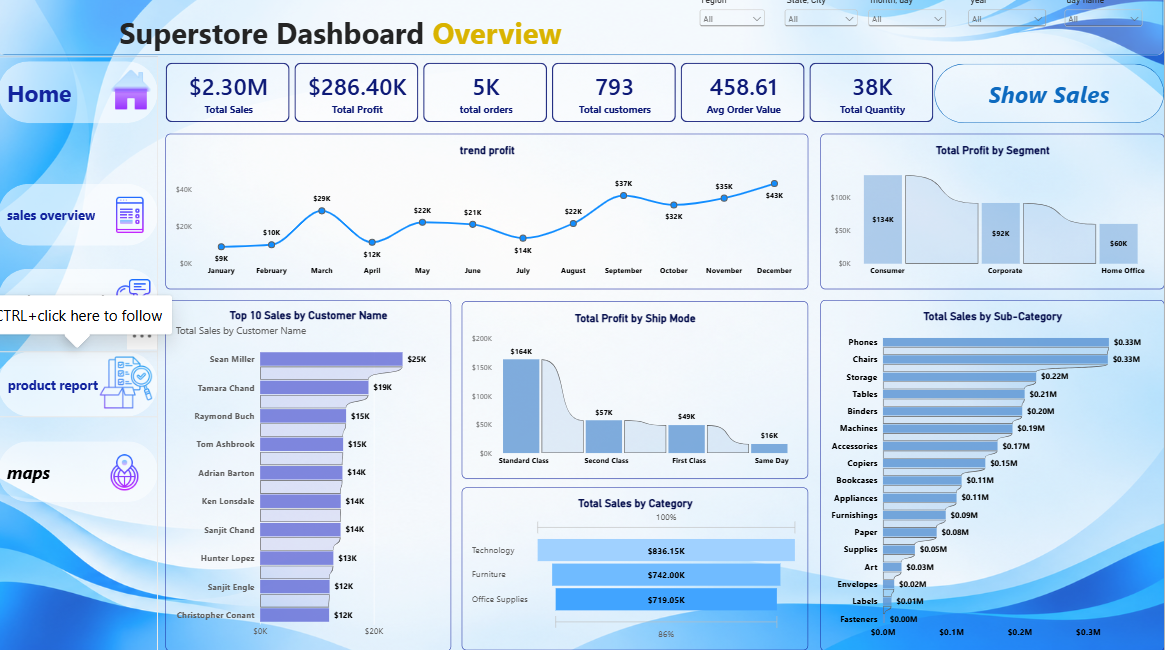

The page's visual inventory and layout, read from the dashboard file:
{"tool":"powerbi","page":{"name":"profit","canvas":[1920,1080],"ordinal":2},"visuals":[{"type":"shape","box":[0,100.9,263.5,979.8],"z":0,"group":"g2"},{"type":"cardVisual","fields":{"Data":["mesure table.Total Sales","mesure table.Total Profit","mesure table.total orders","mesure table.Total profit","mesure table.Avg Order Value","mesure table.Total Quantity"]},"box":[274,110,1268,102],"z":0},{"type":"shape","box":[0,0,1920.1,99.5],"z":1000,"group":"g1"},{"type":"lineChart","title":"trend profit","fields":{"Category":["date.Date.Variation.Date Hierarchy.Month","date.year"],"Y":["mesure table.Total Profit"]},"box":[276,228,1058,256],"z":1000},{"type":"shape","box":[0,587,263.5,108.3],"z":1000,"group":"g2"},{"type":"shape","box":[0,311.5,263.5,102.1],"z":2000,"group":"g2"},{"type":"shape","box":[0,734.1,263.5,100.1],"z":3000,"group":"g2"},{"type":"shape","box":[0,450.2,263.5,98],"z":4000,"group":"g2"},{"type":"ribbonChart","fields":{"Category":["Orders.Segment"],"Y":["mesure table.Total Profit"]},"box":[1354,228,566,256],"z":5000},{"type":"image","box":[167.3,595.2,87.8,86.2],"z":5000,"group":"g2"},{"type":"image","box":[175.6,462.4,87.8,73.5],"z":6000,"group":"g2"},{"type":"funnel","fields":{"Category":["Orders.Category"],"Y":["mesure table.Total Sales"]},"box":[764,812,570.8,267.9],"z":6000},{"type":"barChart","fields":{"Category":["Orders.Sub-Category"],"Y":["mesure table.Total Sales"]},"box":[1354,502,566,578],"z":7000},{"type":"image","box":[166.7,749.2,83.3,73.4],"z":7000,"group":"g2"},{"type":"shape","box":[0,109,263.1,102],"z":8000,"group":"g2"},{"type":"barChart","title":"Top 10 Sales by Customer Name","fields":{"Category":["Orders.Customer Name"],"Y":["mesure table.Total Sales"]},"box":[276,502,470,578],"z":8000},{"type":"shape","box":[1542,114,378.4,97.6],"z":9000},{"type":"image","box":[175,119.2,87.8,73.5],"z":9000,"group":"g2"},{"type":"image","box":[179.1,325,76.2,73.3],"z":10000,"group":"g2"},{"type":"columnChart","fields":{"Category":["Orders.Ship Mode"],"Y":["mesure table.Total Profit"]},"box":[764,504,570,292],"z":11000},{"type":"group","id":"g1","title":"Group 2","box":[0,0,1920.1,110.4],"z":12000},{"type":"textbox","box":[12.8,10.1,1103.2,100.3],"z":12000,"group":"g1"},{"type":"slicer","fields":{"Values":["date.day name"]},"box":[1751.6,0,137.9,98.8],"z":12500},{"type":"slicer","fields":{"Values":["date.month","date.day"]},"box":[1428.5,0,137.9,98.8],"z":13000},{"type":"slicer","fields":{"Values":["date.year"]},"box":[1593.1,0,137.9,98.8],"z":13500},{"type":"slicer","fields":{"Values":["People.region"]},"box":[1150.6,0,117.3,98.8],"z":13501},{"type":"slicer","fields":{"Values":["Orders.State","Orders.City"]},"box":[1290.6,0,129.7,76.2],"z":13502},{"type":"group","id":"g2","title":"Group 1","box":[0,100.9,263.5,979.8],"z":13503}]}

Visuals, with their boxes in screenshot pixels (x1, y1, x2, y2), scaled from the page's 1920x1080 canvas onto the 1165x650 screenshot:
shape: <bbox>0, 61, 160, 649</bbox>
cardVisual - mesure table.Total Sales x mesure table.Total Profit: <bbox>166, 66, 936, 128</bbox>
shape: <bbox>0, 0, 1164, 60</bbox>
"trend profit" lineChart: <bbox>167, 137, 809, 291</bbox>
shape: <bbox>0, 353, 160, 418</bbox>
shape: <bbox>0, 187, 160, 249</bbox>
shape: <bbox>0, 442, 160, 502</bbox>
shape: <bbox>0, 271, 160, 330</bbox>
ribbonChart - Orders.Segment x mesure table.Total Profit: <bbox>822, 137, 1164, 291</bbox>
image: <bbox>102, 358, 155, 410</bbox>
image: <bbox>107, 278, 160, 323</bbox>
funnel - Orders.Category x mesure table.Total Sales: <bbox>464, 489, 810, 649</bbox>
barChart - Orders.Sub-Category x mesure table.Total Sales: <bbox>822, 302, 1164, 649</bbox>
image: <bbox>101, 451, 152, 495</bbox>
shape: <bbox>0, 66, 160, 127</bbox>
"Top 10 Sales by Customer Name" barChart: <bbox>167, 302, 453, 649</bbox>
shape: <bbox>936, 69, 1164, 127</bbox>
image: <bbox>106, 72, 159, 116</bbox>
image: <bbox>109, 196, 155, 240</bbox>
columnChart - Orders.Ship Mode x mesure table.Total Profit: <bbox>464, 303, 809, 479</bbox>
"Group 2" group: <bbox>0, 0, 1164, 66</bbox>
textbox: <bbox>8, 6, 677, 66</bbox>
slicer - date.day name: <bbox>1063, 0, 1146, 59</bbox>
slicer - date.month x date.day: <bbox>867, 0, 950, 59</bbox>
slicer - date.year: <bbox>967, 0, 1050, 59</bbox>
slicer - People.region: <bbox>698, 0, 769, 59</bbox>
slicer - Orders.State x Orders.City: <bbox>783, 0, 862, 46</bbox>
"Group 1" group: <bbox>0, 61, 160, 649</bbox>
